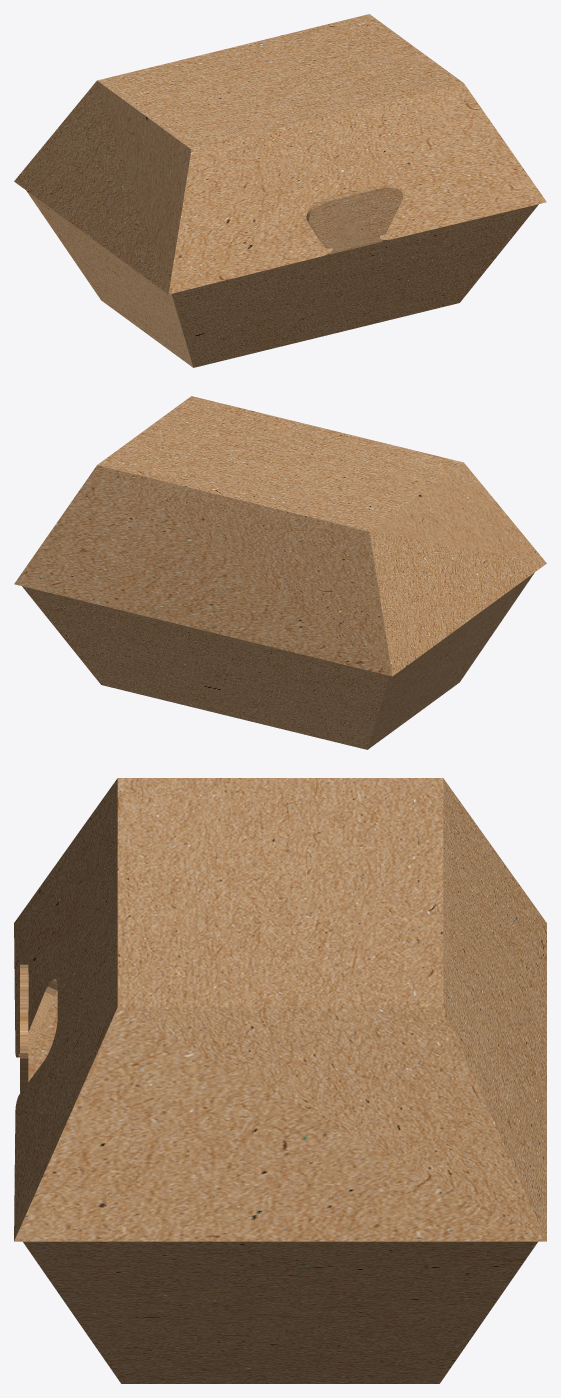
Rendered from CajaComidaF.fbx.
The picture shows the model from 3 angles, top to bottom: view 1: azimuth 30°, elevation 25°; view 2: azimuth 150°, elevation 25°; view 3: azimuth 270°, elevation 25°; orthographic projection. The views are drawn at different scales.
Parts seen in each view (by area): view 1: CajaArriba, CajaAbajo.001, Cierre.002; view 2: CajaArriba, CajaAbajo.001; view 3: CajaArriba, CajaAbajo.001, Cierre.002.
Boxes of the visible parts, left/top/right/bottom form: CajaArriba: left=14, top=14, right=546, bottom=294; CajaAbajo.001: left=26, top=187, right=538, bottom=367; Cierre.002: left=306, top=186, right=403, bottom=254; CajaArriba: left=14, top=396, right=546, bottom=676; CajaAbajo.001: left=22, top=572, right=534, bottom=749; CajaArriba: left=14, top=778, right=546, bottom=1241; CajaAbajo.001: left=20, top=991, right=537, bottom=1383; Cierre.002: left=20, top=964, right=28, bottom=1097.
Bounding box in the file's own units: 120 × 66.44 × 84.62.
3 materials, 3 textured.
